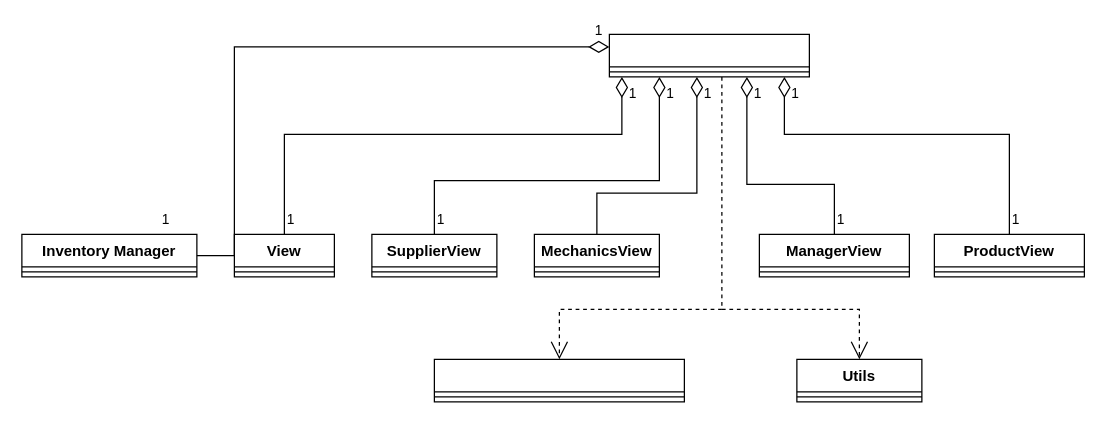
Image size: 1106x424. Some labels were removed from this diagram. The box of each missing label's shape, as (x1, y1, x2, y2) in pixels:
Controller: (608, 33, 809, 77)
DataConsistencyException: (433, 358, 684, 402)
